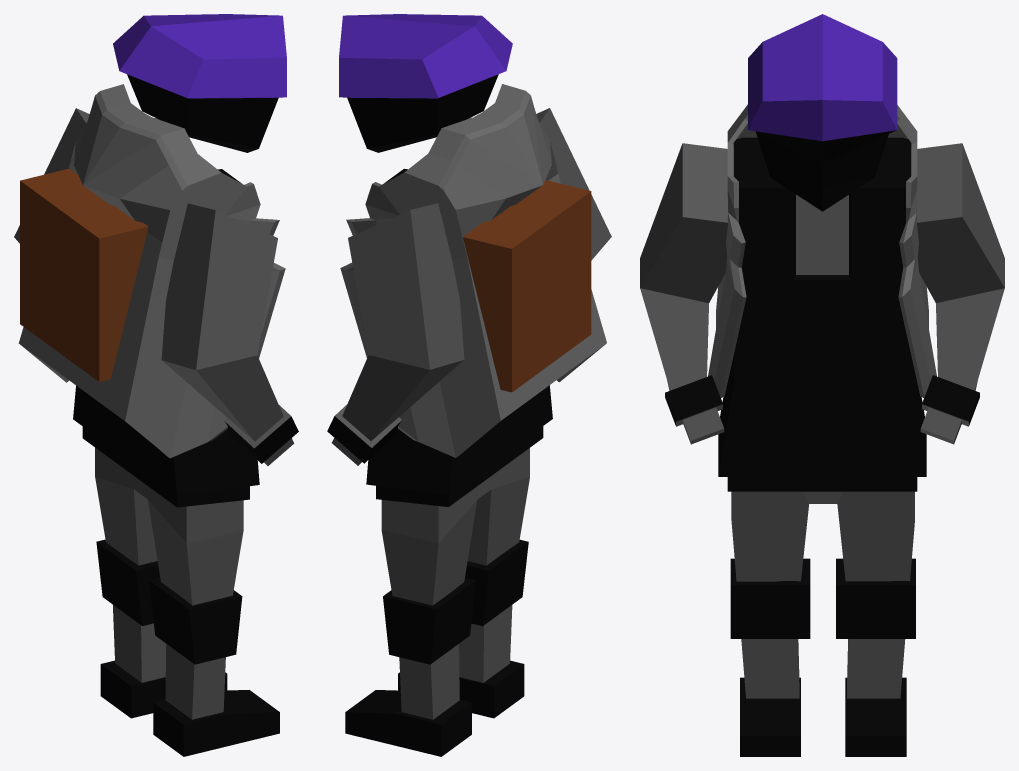
File: Soldier.fbx
3 views of the same model, side by side, from view 1: azimuth 30°, elevation 25°; view 2: azimuth 150°, elevation 25°; view 3: azimuth 270°, elevation 25° (orthographic).
Visible parts, largest first — view 1: Plane.001, Cube.025, Cube.029, Cube.024, Cube.028, Cube.022, Cube.012, Cube.021; view 2: Plane.001, Cube.025, Cube.029, Cube.024, Cube.028, Cube.022, Cube.012, Cube.021; view 3: Cube.022, Cube.025, Cube.028, Cube.024, Cube.012, Plane.001, Cube.021.
Part boxes in pixels (x1,y1,x2,y2): Plane.001: (18,84,285,458); Cube.025: (14,108,298,465); Cube.029: (20,168,148,381); Cube.024: (95,447,243,719); Cube.028: (113,14,286,152); Cube.022: (73,169,259,507); Cube.012: (96,539,242,664); Cube.021: (100,660,279,756); Plane.001: (340,84,606,457); Cube.025: (327,108,611,465); Cube.029: (463,180,591,392); Cube.024: (381,448,529,719); Cube.028: (339,14,512,152); Cube.022: (366,168,552,506); Cube.012: (383,539,528,664); Cube.021: (345,660,524,756); Cube.022: (718,137,926,491); Cube.025: (640,143,1004,444); Cube.028: (748,14,897,211); Cube.024: (731,491,914,698); Cube.012: (730,558,915,638); Plane.001: (708,104,936,397); Cube.021: (740,677,906,756).
Size of the model in its own units: 477 by 1472 by 695.
